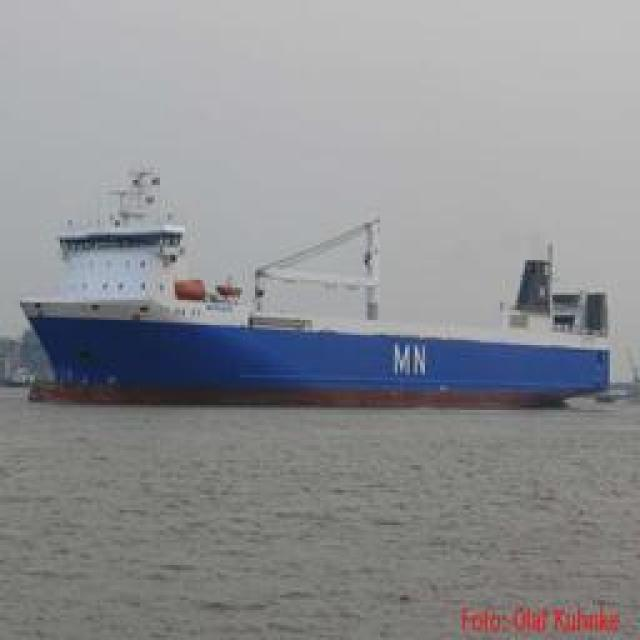ship2: (20, 167, 615, 409)
